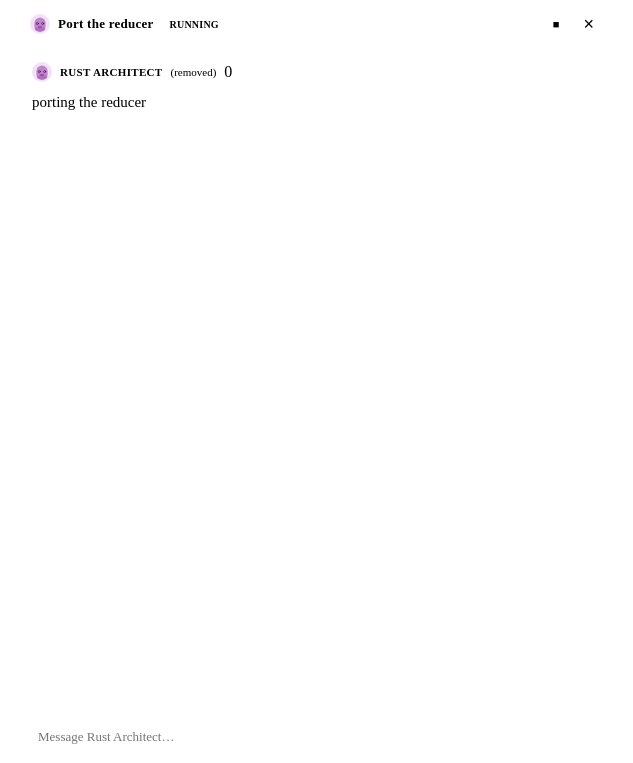
it: WorkspaceTaskTranscriptPanel › task composer › send to running task marks queued chip
The image size is (633, 763).
In the text box labelled "Message Rust Architect…": (285, 736) 38,727 -> 532,746, type "Also check the CHANGELOG"
Then press Enter
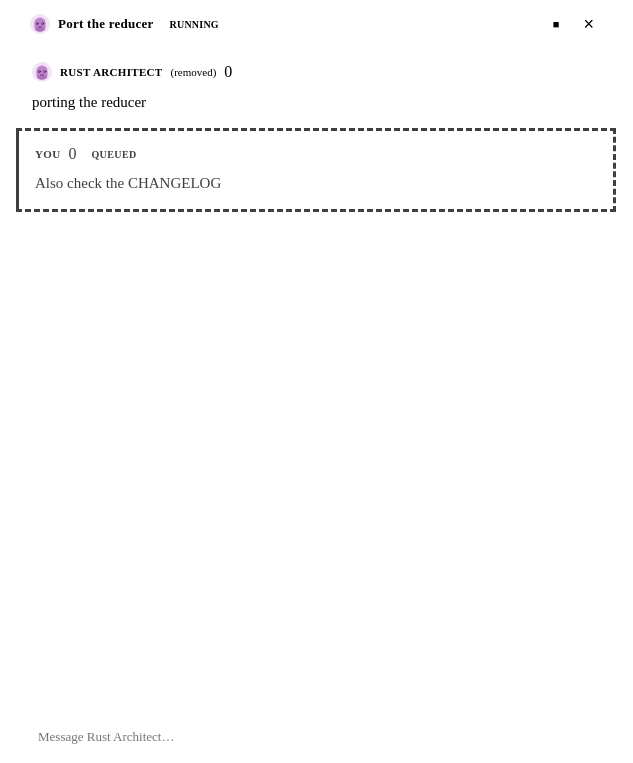
Now the text "Queued" is shown, box 91,148 -> 137,160
